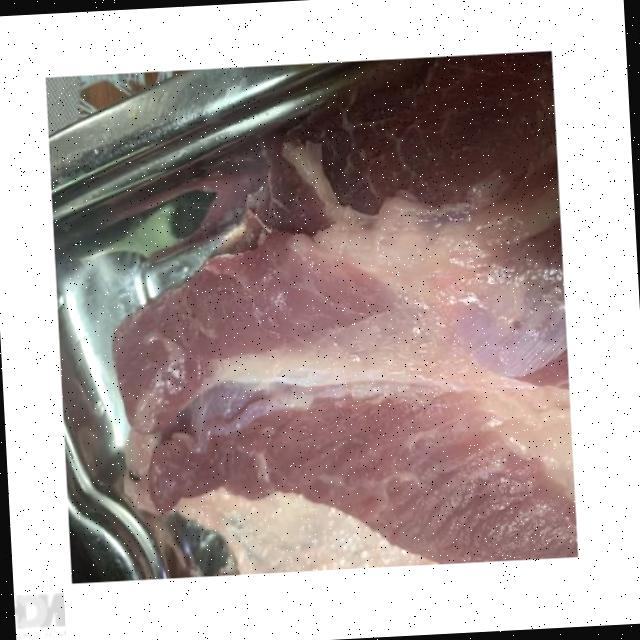rotten meat: (27, 18, 611, 596)
